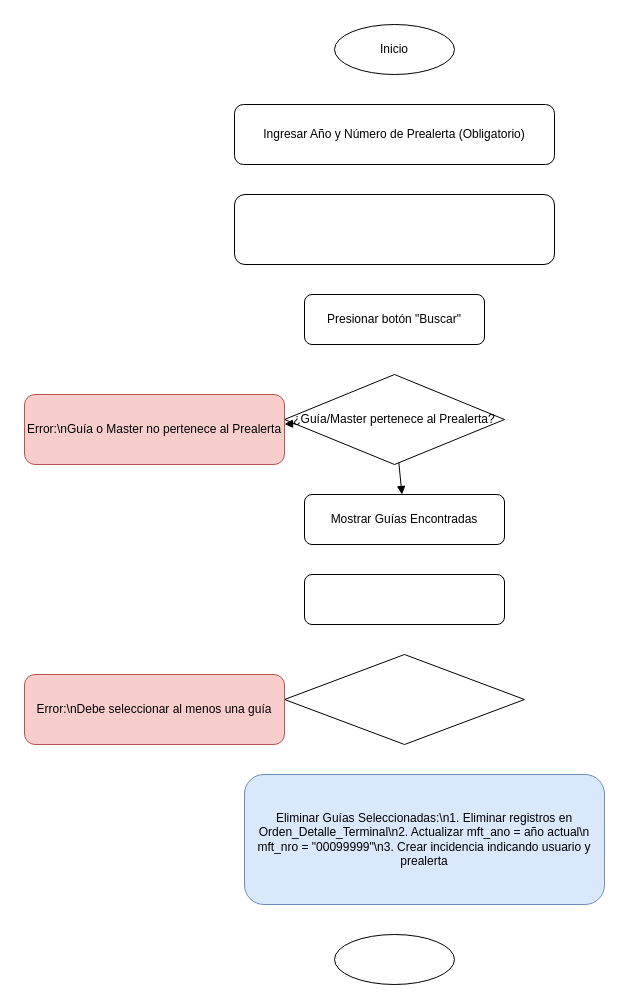
This 622x1002 diagram has some shape labels left out. The centre of each missing label's shape, as x and y in pixels:
Elegir tipo de búsqueda:\n- Guía específica\n- Todas las guías de una Master: point 394,229
Fin: point 394,959
Seleccionar Guías a Eliminar: point 404,599
¿Se seleccionó al menos una guía?: point 404,699
